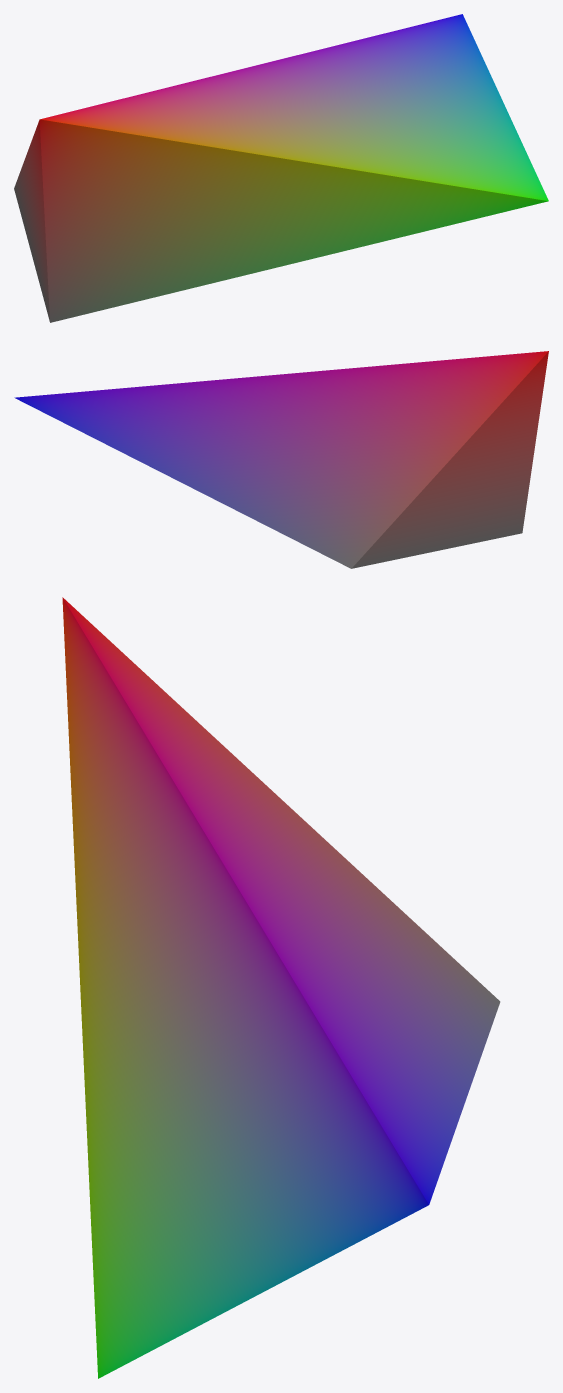
File: Decimate10.obj
The picture shows the model from 3 angles, top to bottom: view 1: azimuth 30°, elevation 25°; view 2: azimuth 150°, elevation 25°; view 3: azimuth 270°, elevation 25°; orthographic projection. The views are drawn at different scales.
Bounding box in the file's own units: 1.57 × 0.6094 × 0.6719.
